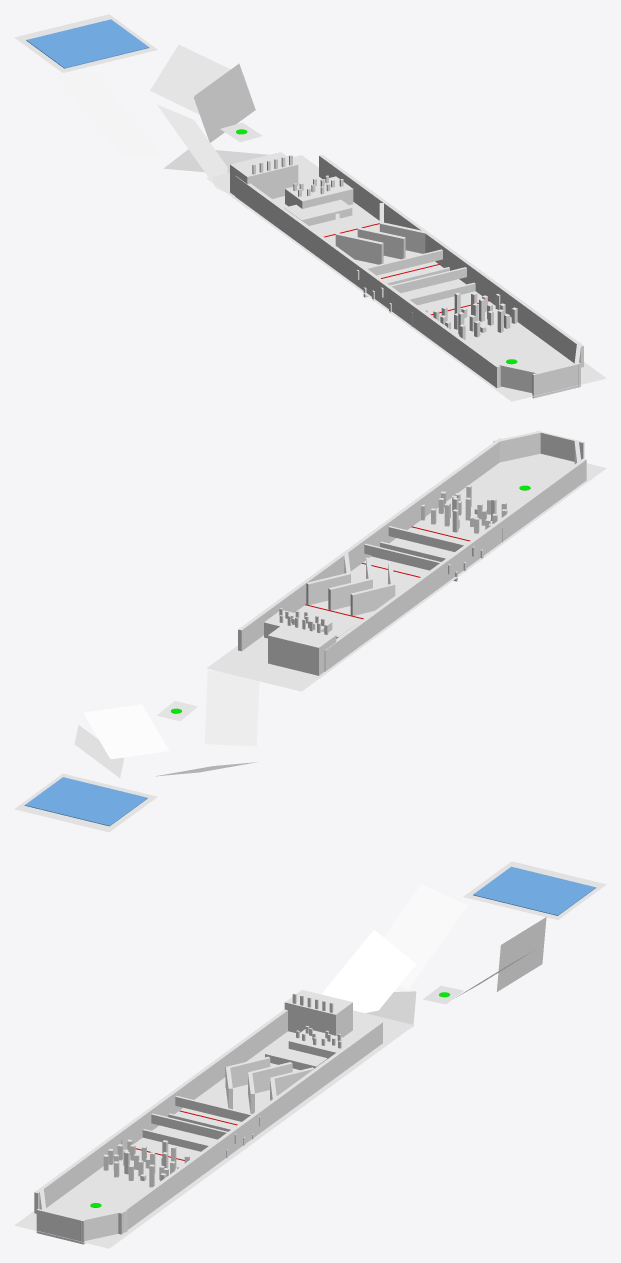
Rendered from map2.glb.
3 views of the same model, one above another, from view 1: azimuth 30°, elevation 25°; view 2: azimuth 150°, elevation 25°; view 3: azimuth 330°, elevation 25° (orthographic).
Parts seen in each view (by area): view 1: MeshInstance3D5, MeshInstance3D24, MeshInstance3D25, MeshInstance3D42, MeshInstance3D6, MeshInstance3D7, MeshInstance3D62, MeshInstance3D263, MeshInstance3D32, MeshInstance3D22, MeshInstance3D250, MeshInstance3D26 (+9 smaller); view 2: MeshInstance3D5, MeshInstance3D24, MeshInstance3D25, MeshInstance3D270, MeshInstance3D6, MeshInstance3D62, MeshInstance3D263, MeshInstance3D22, MeshInstance3D27, MeshInstance3D245, MeshInstance3D7, MeshInstance3D26 (+5 smaller); view 3: MeshInstance3D5, MeshInstance3D25, MeshInstance3D24, MeshInstance3D32, MeshInstance3D42, MeshInstance3D6, MeshInstance3D263, MeshInstance3D7, MeshInstance3D22, MeshInstance3D26, MeshInstance3D270, MeshInstance3D250 (+7 smaller).
Part boxes in pixels (<box>): MeshInstance3D5: <box>207,155,606,401</box>; MeshInstance3D24: <box>235,176,500,387</box>; MeshInstance3D25: <box>319,154,583,367</box>; MeshInstance3D42: <box>54,72,161,154</box>; MeshInstance3D6: <box>26,19,149,68</box>; MeshInstance3D7: <box>150,44,244,114</box>; MeshInstance3D62: <box>193,63,255,142</box>; MeshInstance3D263: <box>230,152,298,198</box>; MeshInstance3D32: <box>157,104,227,191</box>; MeshInstance3D22: <box>14,14,157,72</box>; MeshInstance3D250: <box>285,176,353,208</box>; MeshInstance3D26: <box>532,362,580,398</box>; MeshInstance3D5: <box>206,453,606,691</box>; MeshInstance3D24: <box>324,458,586,671</box>; MeshInstance3D25: <box>238,438,501,651</box>; MeshInstance3D270: <box>204,670,259,746</box>; MeshInstance3D6: <box>24,777,147,826</box>; MeshInstance3D62: <box>83,704,169,759</box>; MeshInstance3D263: <box>268,623,336,675</box>; MeshInstance3D22: <box>14,773,157,832</box>; MeshInstance3D27: <box>493,431,540,462</box>; MeshInstance3D245: <box>350,584,395,615</box>; MeshInstance3D7: <box>74,725,123,777</box>; MeshInstance3D26: <box>536,430,584,461</box>; MeshInstance3D5: <box>14,1010,413,1248</box>; MeshInstance3D25: <box>118,1021,382,1234</box>; MeshInstance3D24: <box>34,1009,287,1213</box>; MeshInstance3D32: <box>321,929,416,1012</box>; MeshInstance3D42: <box>384,884,467,989</box>; MeshInstance3D6: <box>473,866,596,915</box>; MeshInstance3D263: <box>284,990,352,1037</box>; MeshInstance3D7: <box>496,917,546,991</box>; MeshInstance3D22: <box>463,861,606,919</box>; MeshInstance3D26: <box>36,1209,85,1244</box>; MeshInstance3D270: <box>365,991,416,1027</box>; MeshInstance3D250: <box>288,1029,353,1058</box>.
Size of the model in its own units: 91.03 by 38.08 by 502.
